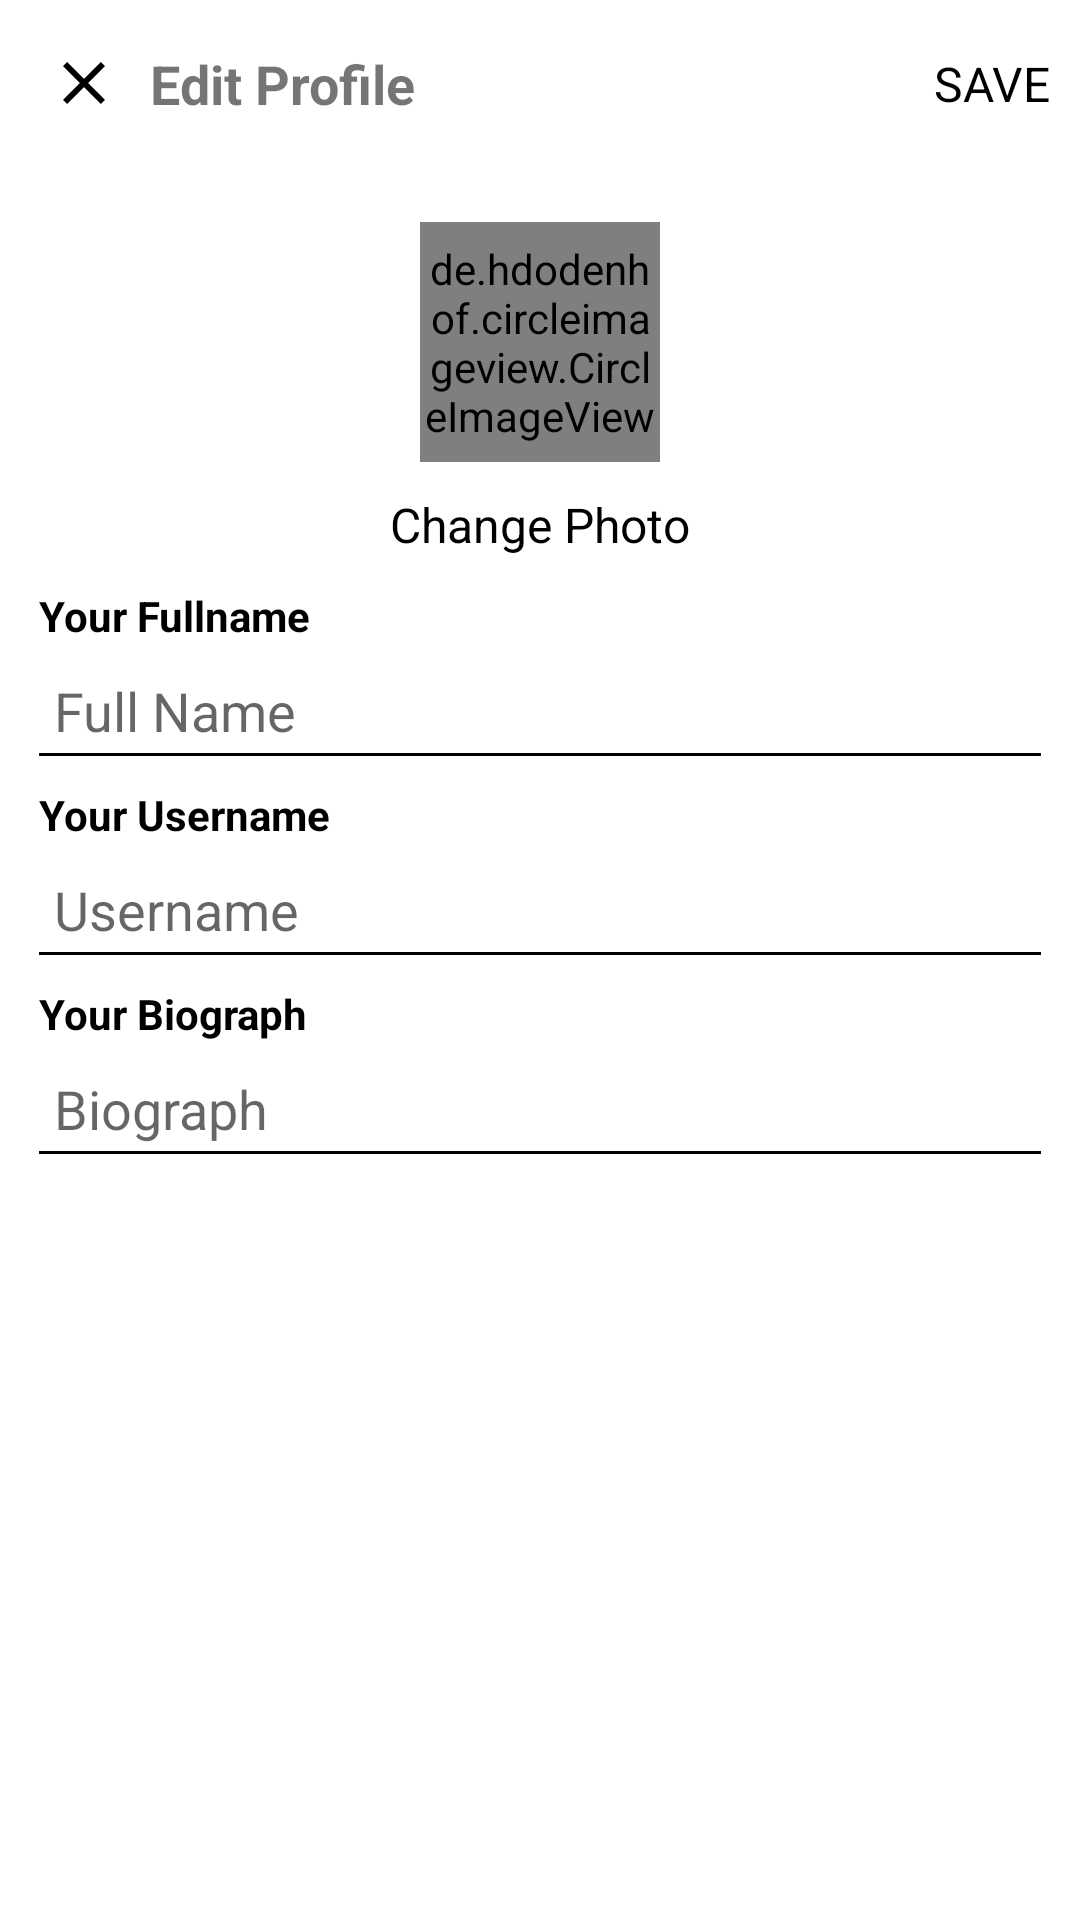

Icons on this 1080x1920 Android screen, each with the point to tap as [x,y]:
close: [84,83]
